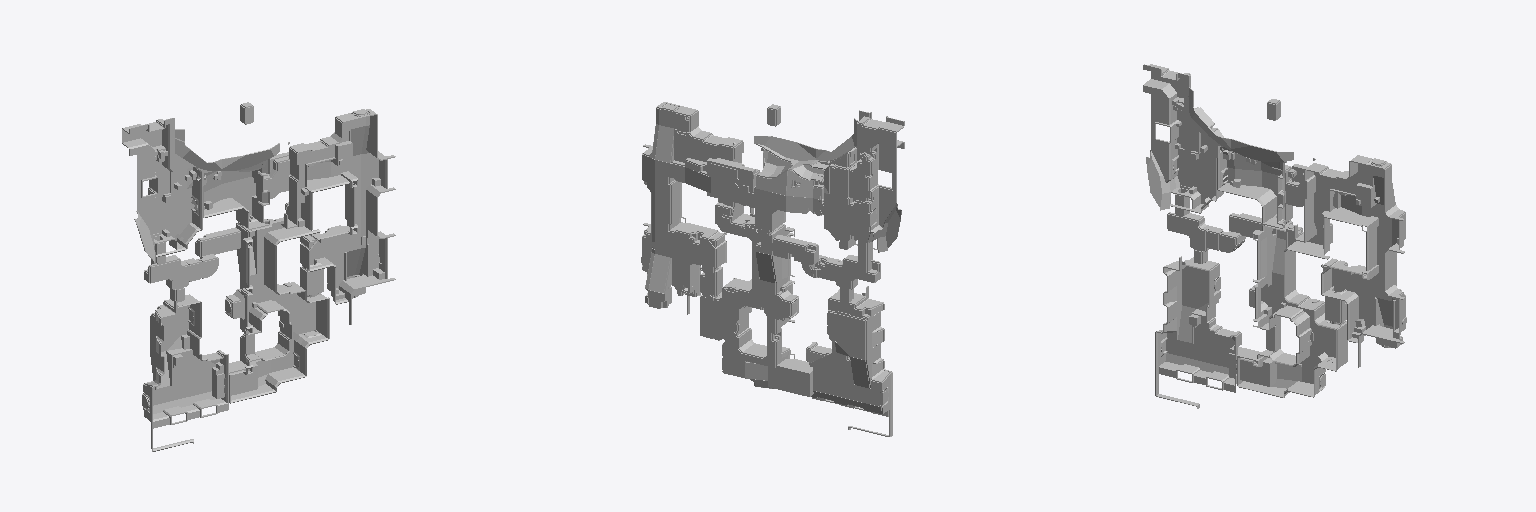
The model's file is de_dust2_shadow.obj.
3 views of the same model, side by side, from view 1: azimuth 30°, elevation 25°; view 2: azimuth 150°, elevation 25°; view 3: azimuth 330°, elevation 25° (orthographic).
Visible parts, largest first — view 1: M_0_ENT_0, M_30_ENT_37; view 2: M_0_ENT_0, M_30_ENT_37, M_29_ENT_36; view 3: M_0_ENT_0, M_30_ENT_37.
Boxes of the visible parts, <box> form: M_0_ENT_0: <box>122,102,395,451</box>; M_30_ENT_37: <box>212,361,257,398</box>; M_0_ENT_0: <box>641,102,904,436</box>; M_30_ENT_37: <box>768,359,813,396</box>; M_29_ENT_36: <box>707,158,755,205</box>; M_0_ENT_0: <box>1143,64,1406,408</box>; M_30_ENT_37: <box>1229,347,1276,386</box>.
Bounding box in the file's own units: 4480 × 5312 × 624.